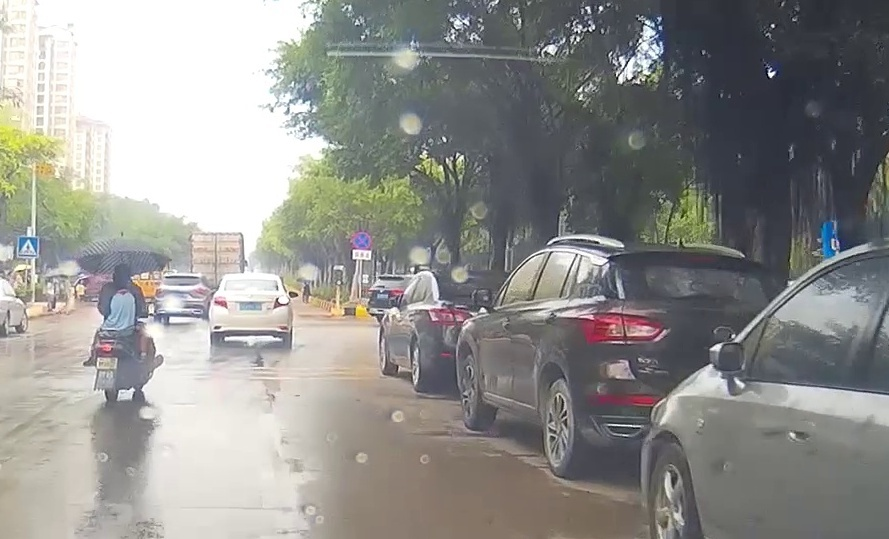L_light: (213, 296, 228, 310), (155, 287, 165, 298)
R_light: (273, 295, 291, 310), (192, 287, 205, 296)
T_light: (245, 288, 257, 290), (178, 276, 187, 277)
day-no: (154, 272, 208, 324)
day-right: (208, 273, 292, 348)
